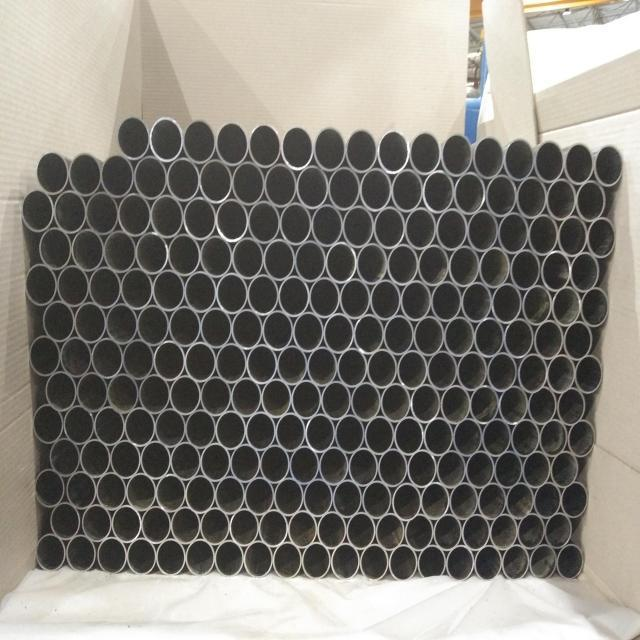pipe: (182, 118, 217, 163), (35, 150, 70, 195), (199, 158, 233, 204), (100, 152, 134, 198), (68, 151, 102, 197), (264, 162, 298, 208), (313, 126, 347, 172), (231, 161, 265, 206), (215, 121, 249, 166), (149, 117, 183, 162), (117, 192, 151, 237), (280, 125, 314, 170), (166, 157, 200, 202), (248, 123, 282, 168), (183, 196, 217, 241), (150, 194, 184, 239), (133, 155, 167, 200), (85, 191, 119, 236), (116, 115, 150, 160), (53, 189, 87, 234), (21, 187, 55, 232), (167, 233, 201, 277), (71, 228, 105, 272), (103, 230, 137, 274), (345, 127, 378, 172), (215, 198, 248, 243), (409, 130, 442, 175), (328, 166, 361, 211), (359, 167, 392, 212), (296, 164, 329, 209), (472, 134, 505, 179), (391, 168, 424, 213), (39, 226, 72, 271), (248, 200, 281, 245), (377, 128, 409, 174), (504, 136, 536, 182), (231, 236, 264, 280), (440, 132, 473, 176), (404, 206, 437, 250), (453, 171, 486, 215), (135, 231, 168, 275), (57, 264, 90, 308), (200, 234, 233, 278), (263, 238, 296, 282), (279, 202, 312, 246), (152, 269, 185, 312), (184, 270, 217, 313), (120, 267, 153, 310), (88, 266, 121, 309), (105, 302, 138, 345), (137, 304, 170, 347), (25, 263, 58, 306), (74, 301, 107, 344), (42, 300, 75, 343), (59, 335, 92, 378), (485, 173, 517, 217), (373, 206, 405, 250), (422, 169, 454, 213), (311, 203, 343, 247), (294, 239, 326, 283), (342, 204, 374, 248), (436, 207, 468, 251), (515, 175, 547, 219), (534, 138, 565, 183), (122, 338, 155, 380), (91, 337, 124, 379), (247, 273, 279, 316), (325, 241, 357, 284), (356, 242, 388, 285), (387, 243, 419, 286), (417, 244, 449, 287), (478, 246, 510, 289), (467, 209, 499, 252), (339, 277, 371, 320), (593, 143, 624, 187), (546, 177, 577, 221), (564, 141, 595, 185), (107, 372, 140, 413), (216, 272, 248, 314), (509, 249, 541, 291), (200, 307, 232, 349), (308, 276, 340, 318), (231, 308, 263, 350), (278, 275, 310, 317), (153, 340, 185, 382), (369, 279, 401, 321), (292, 311, 324, 353), (169, 305, 201, 347), (498, 211, 529, 254), (449, 244, 480, 287), (527, 213, 558, 256), (576, 179, 606, 223), (184, 341, 216, 382), (246, 344, 278, 385), (29, 336, 61, 377), (169, 375, 201, 416), (76, 372, 108, 413), (45, 370, 77, 411), (138, 373, 170, 414), (262, 309, 293, 351), (431, 280, 462, 322), (461, 281, 492, 323), (383, 314, 414, 356), (400, 280, 431, 322), (491, 282, 522, 324), (413, 315, 444, 357), (541, 249, 571, 292), (200, 376, 232, 416), (185, 409, 217, 449), (63, 405, 95, 445), (154, 408, 186, 448), (32, 404, 64, 444), (277, 345, 308, 386), (216, 342, 247, 383), (337, 347, 368, 388), (307, 346, 338, 387), (291, 379, 322, 420), (503, 318, 534, 359), (353, 314, 384, 355), (321, 380, 352, 421), (444, 316, 475, 357), (323, 313, 354, 354), (427, 350, 458, 391), (474, 317, 505, 358), (487, 351, 518, 392), (367, 348, 398, 389), (440, 384, 471, 425), (397, 349, 428, 390), (557, 215, 587, 257), (570, 251, 600, 293), (551, 285, 581, 327), (65, 471, 97, 510), (587, 216, 616, 259), (215, 410, 246, 450), (261, 378, 292, 418), (230, 443, 261, 483), (380, 382, 411, 422), (94, 406, 125, 446), (275, 412, 306, 452), (200, 442, 231, 482), (410, 383, 441, 423), (364, 415, 395, 455), (50, 437, 81, 477), (170, 441, 201, 481), (124, 407, 155, 447), (140, 440, 171, 480), (259, 444, 290, 484), (80, 438, 111, 478), (141, 505, 172, 545), (126, 472, 157, 512), (35, 533, 66, 573), (231, 377, 262, 417), (155, 473, 186, 513), (96, 471, 127, 511), (377, 448, 408, 488), (522, 284, 552, 325), (534, 319, 564, 360), (351, 381, 381, 422), (457, 351, 487, 392), (81, 503, 112, 542), (185, 474, 216, 513), (273, 477, 304, 516), (110, 440, 141, 479), (244, 476, 275, 515), (96, 536, 127, 575), (50, 502, 81, 541), (66, 534, 97, 573), (35, 469, 66, 508), (517, 353, 547, 393), (319, 446, 349, 486), (335, 414, 365, 454), (289, 445, 319, 485), (424, 417, 454, 457), (394, 416, 424, 456), (348, 447, 378, 487), (499, 385, 529, 425), (469, 384, 499, 424), (303, 477, 333, 517), (362, 480, 392, 520), (112, 504, 142, 544), (482, 417, 512, 457), (527, 386, 557, 426), (246, 411, 276, 451), (453, 417, 483, 457), (305, 413, 335, 453), (563, 320, 592, 361), (580, 286, 609, 327), (546, 353, 575, 394), (215, 475, 245, 514), (273, 540, 303, 579), (332, 479, 362, 518), (258, 509, 288, 548), (200, 507, 230, 546), (185, 538, 215, 577), (156, 537, 186, 576), (288, 509, 318, 548), (214, 539, 244, 578), (127, 537, 157, 576), (171, 506, 201, 545), (436, 449, 466, 488), (407, 449, 437, 488), (346, 511, 376, 550), (392, 481, 422, 520), (574, 354, 603, 394), (511, 417, 540, 457), (421, 481, 450, 521), (229, 508, 259, 546), (388, 543, 418, 581), (375, 513, 405, 551), (331, 542, 361, 580), (404, 513, 434, 551), (317, 511, 347, 549), (465, 450, 495, 488), (302, 541, 331, 580), (567, 419, 596, 458), (494, 450, 523, 489), (449, 481, 478, 520), (539, 418, 568, 457), (244, 539, 273, 578), (478, 481, 507, 520), (557, 387, 586, 426), (522, 450, 551, 488), (360, 543, 389, 581), (462, 513, 491, 551), (550, 450, 579, 488), (433, 513, 462, 551), (446, 544, 475, 582), (506, 481, 535, 519), (556, 542, 585, 580), (502, 543, 530, 582), (418, 544, 447, 581), (517, 512, 545, 550), (474, 544, 502, 582), (545, 512, 573, 550), (529, 543, 557, 581), (490, 513, 518, 551), (560, 481, 588, 519), (533, 481, 561, 519)
